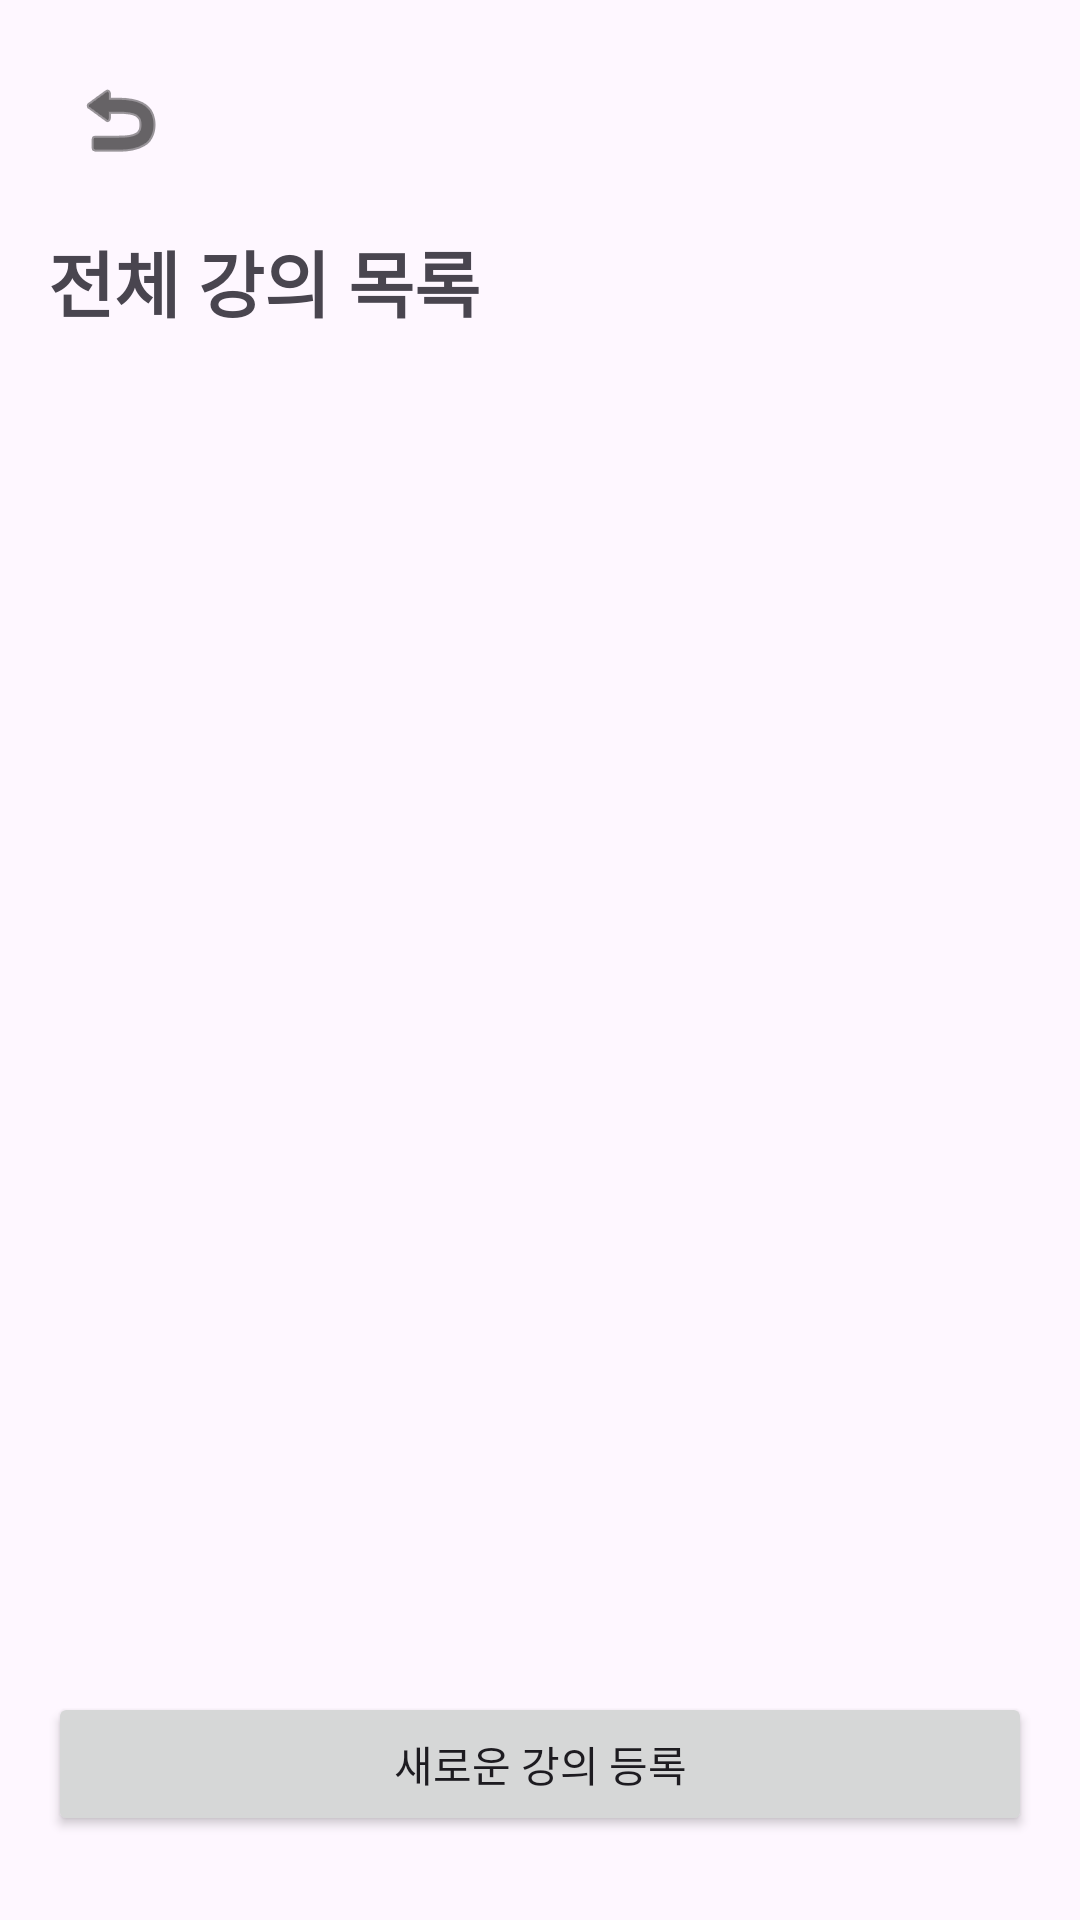

Icon bounding boxes for this 1080w x 1920h phone screenshot, format [x1,y1,x2,y2]:
뒤로가기: [87,89,156,152]
